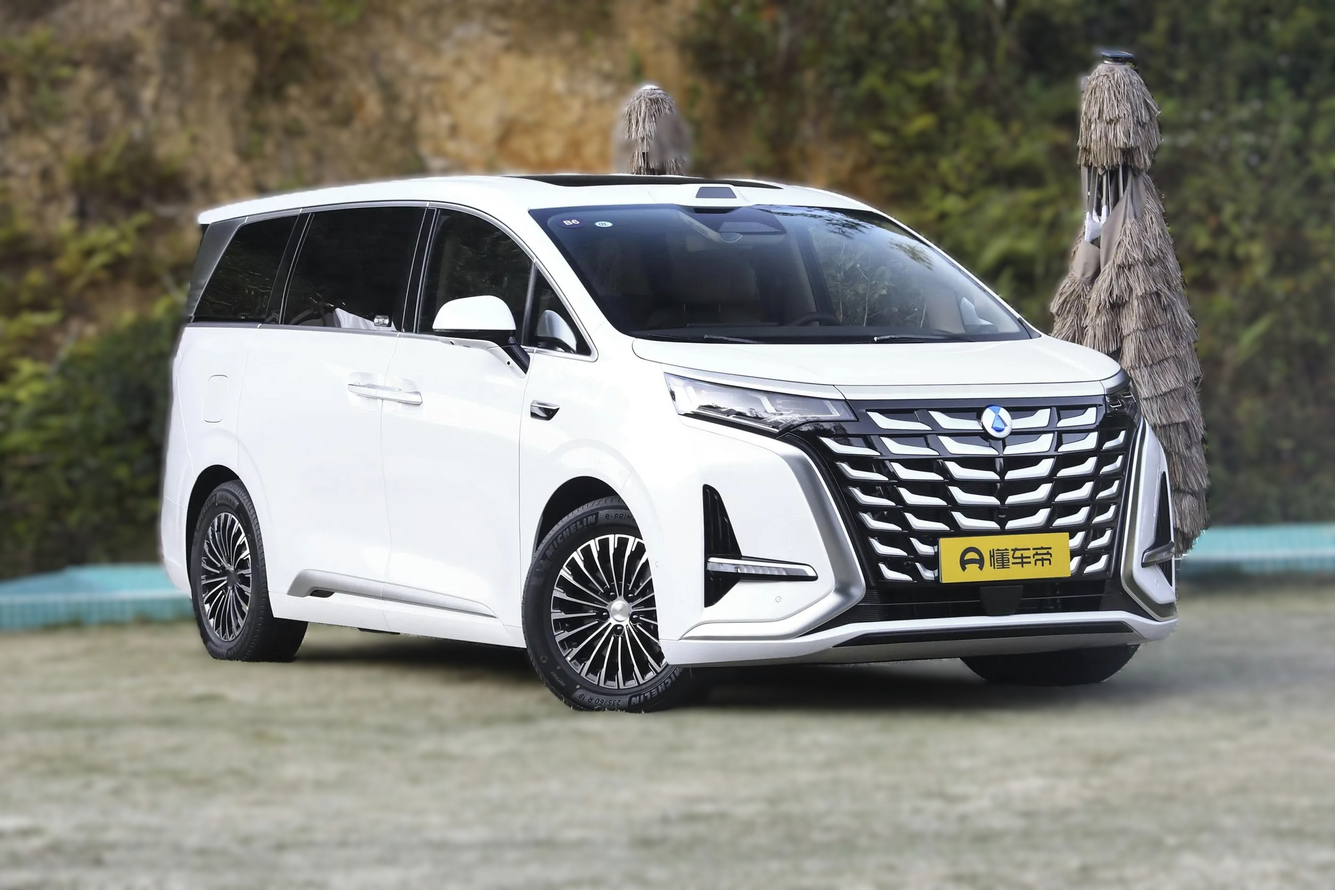DENZA: (983, 406, 1012, 438)
